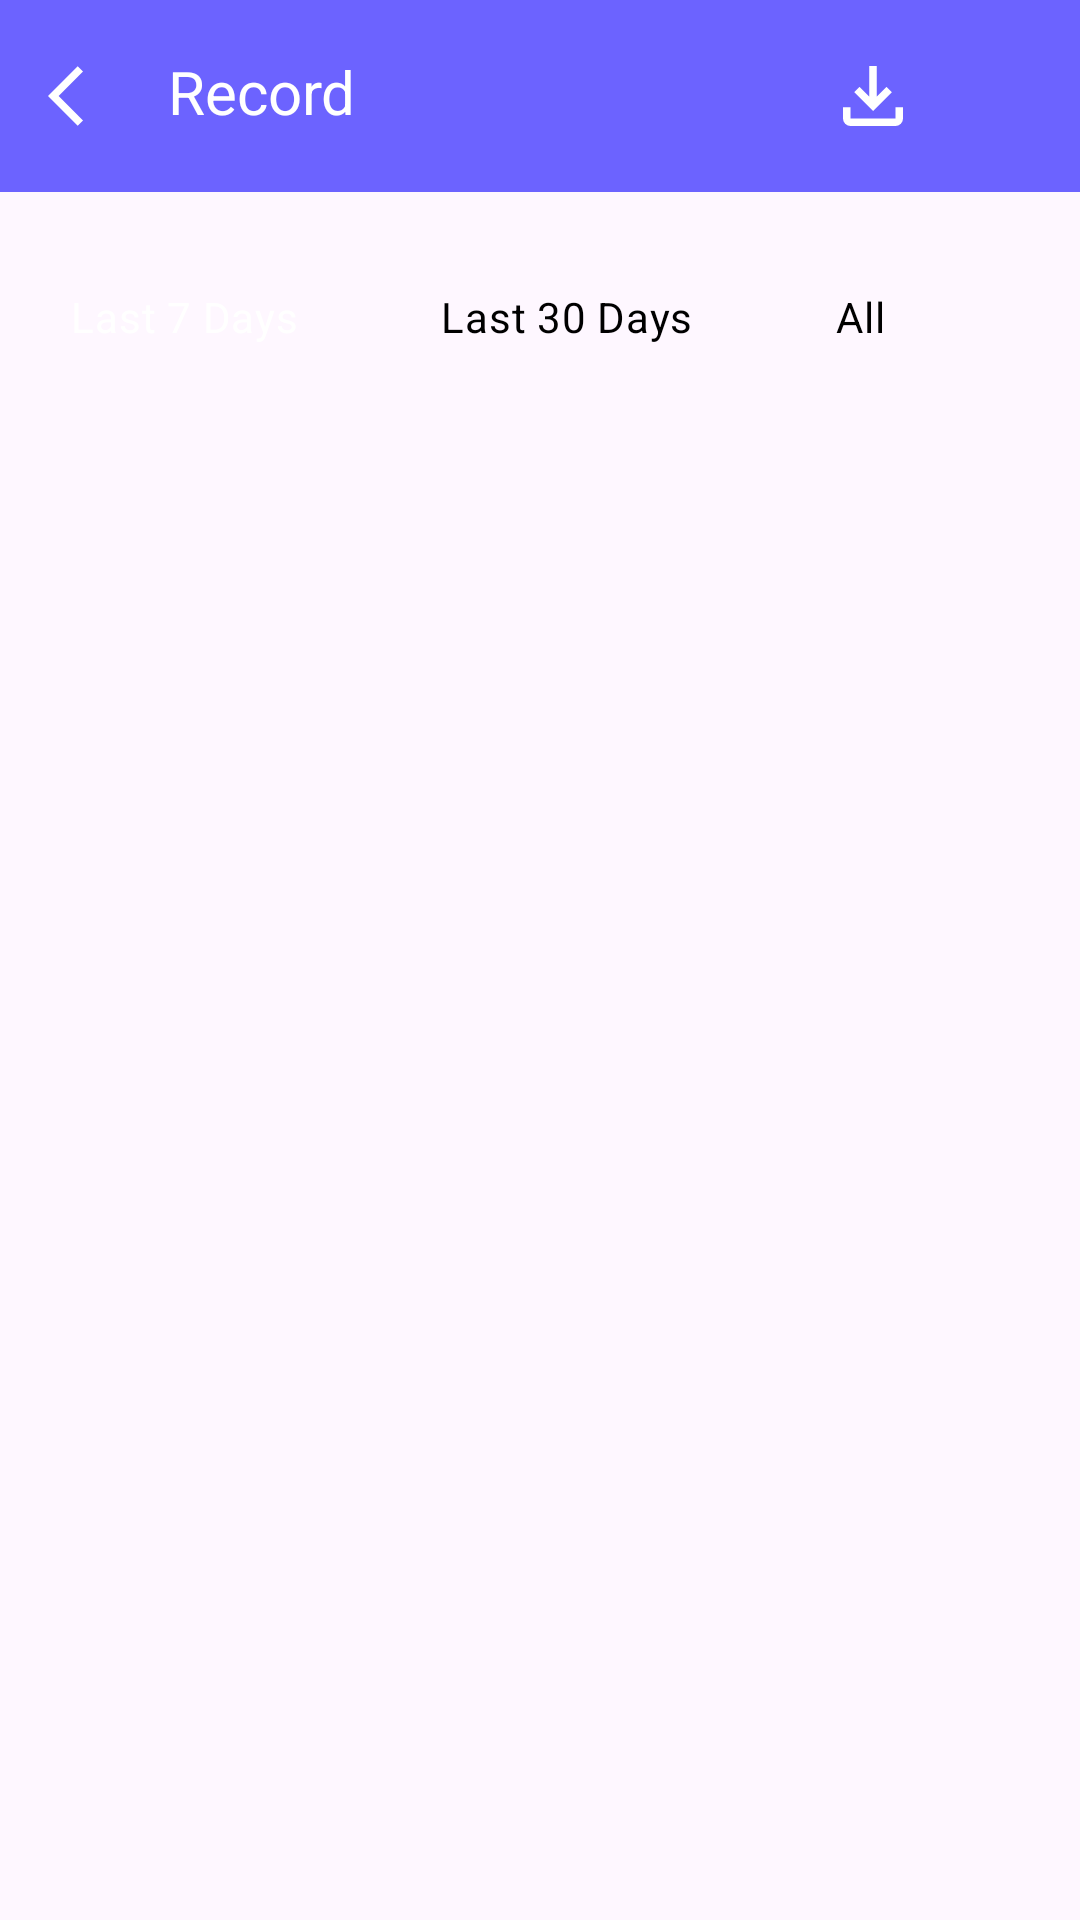

Icons on this 1080w x 1920h Android screen, each with its box as (x1, y1, x2, y2):
download: (843, 66, 903, 126)
